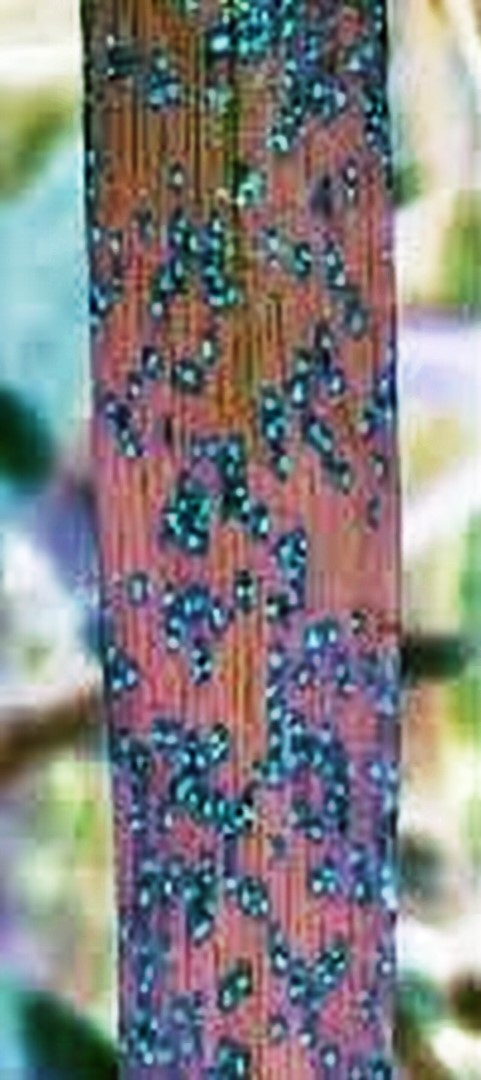Leaf Rust: (74, 14, 413, 1049)
